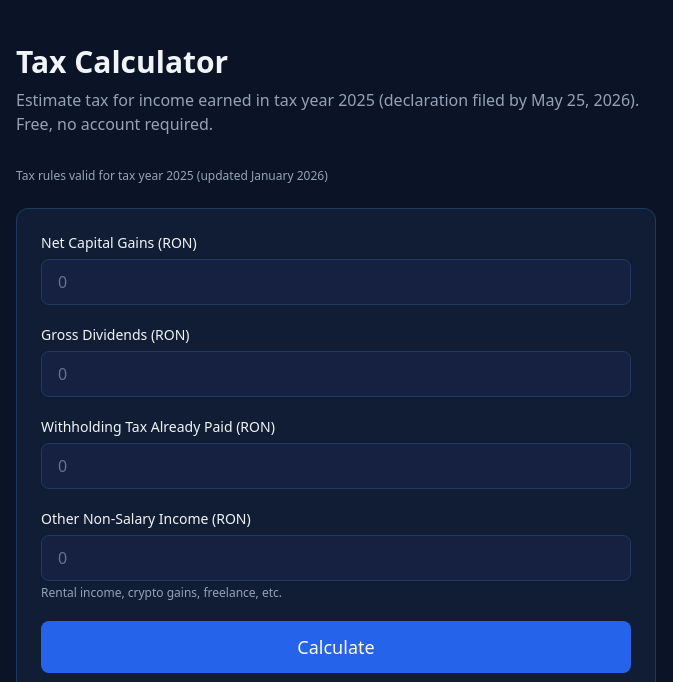
CalculatorPage › calculates CASS bracket for high income
Type "100000" into the field with placeholder "0" at (336, 282), box 41,259 -> 631,305
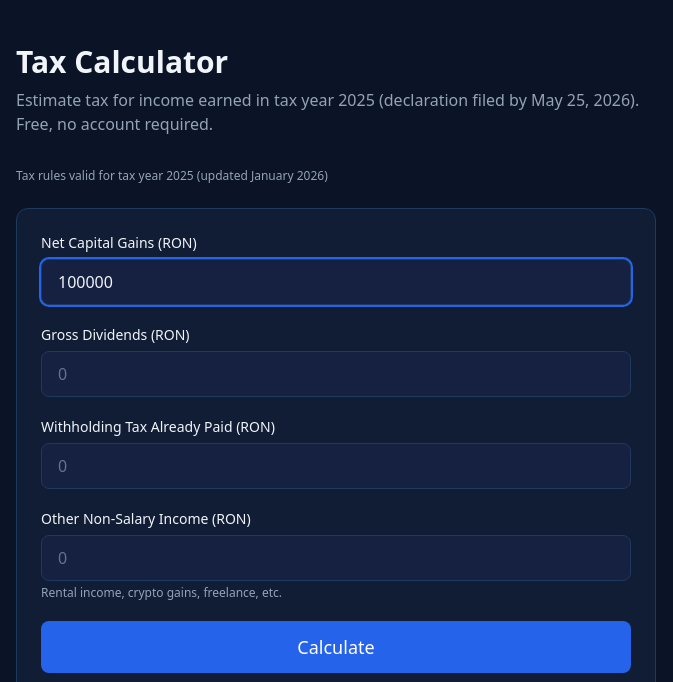
Click the button "Calculate" at (336, 647), box 41,621 -> 631,673
(page scrolled)
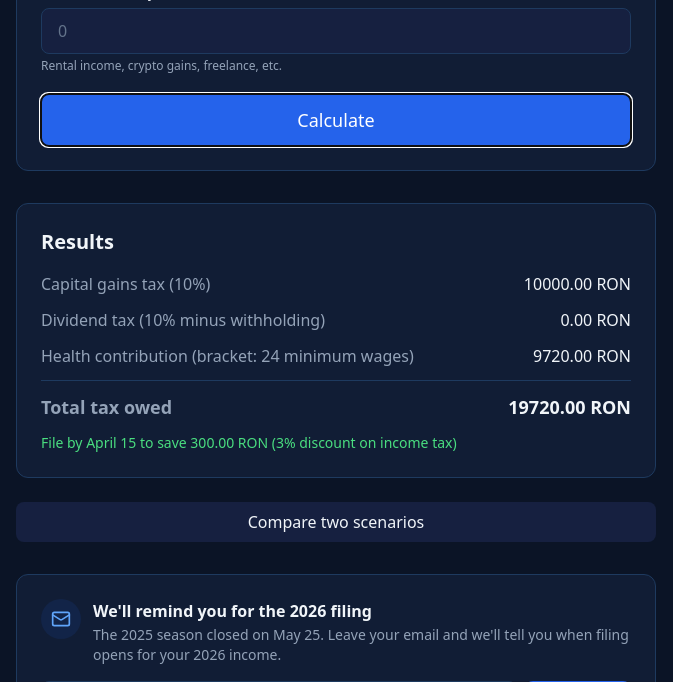
Check: the text "Health contribution (bracket: 24 minimum wages)" is shown, box 41,344 -> 414,368
Check: the text "Health contribution (bracket: 24 minimum wages) 9720.00 RON" is shown, box 41,344 -> 631,368
